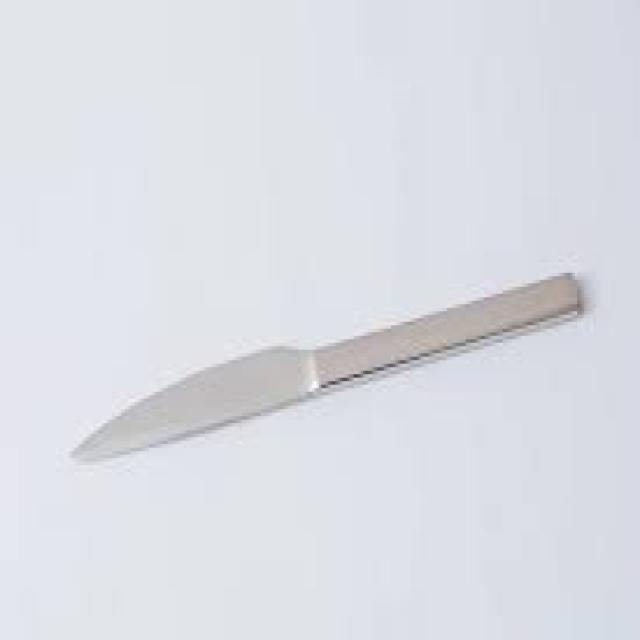Knife: (68, 269, 580, 462)
